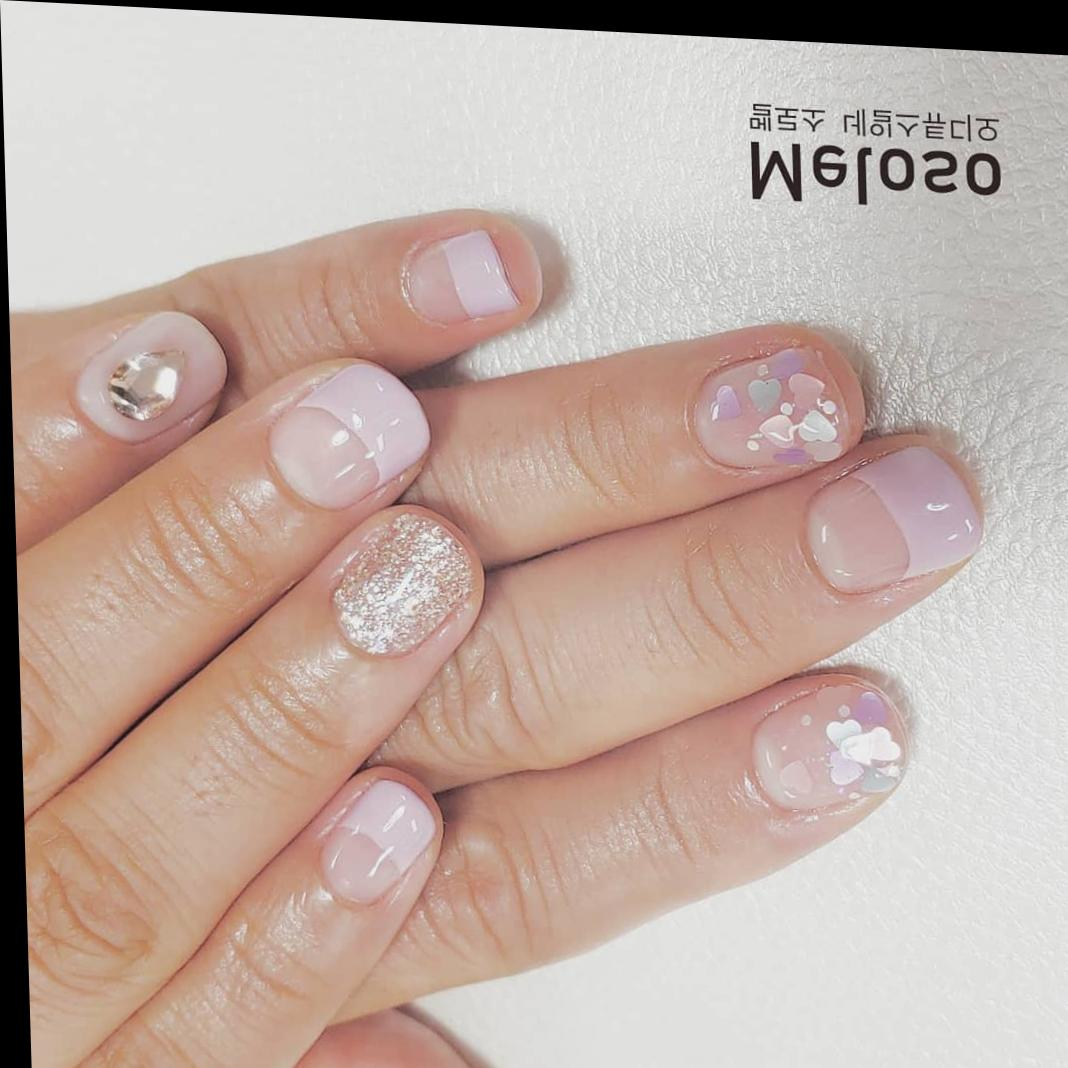nail: (797, 433, 986, 606), (263, 355, 434, 520), (684, 335, 867, 484), (325, 501, 479, 666), (747, 670, 911, 824), (71, 305, 230, 450), (311, 763, 444, 917), (398, 224, 522, 333)
